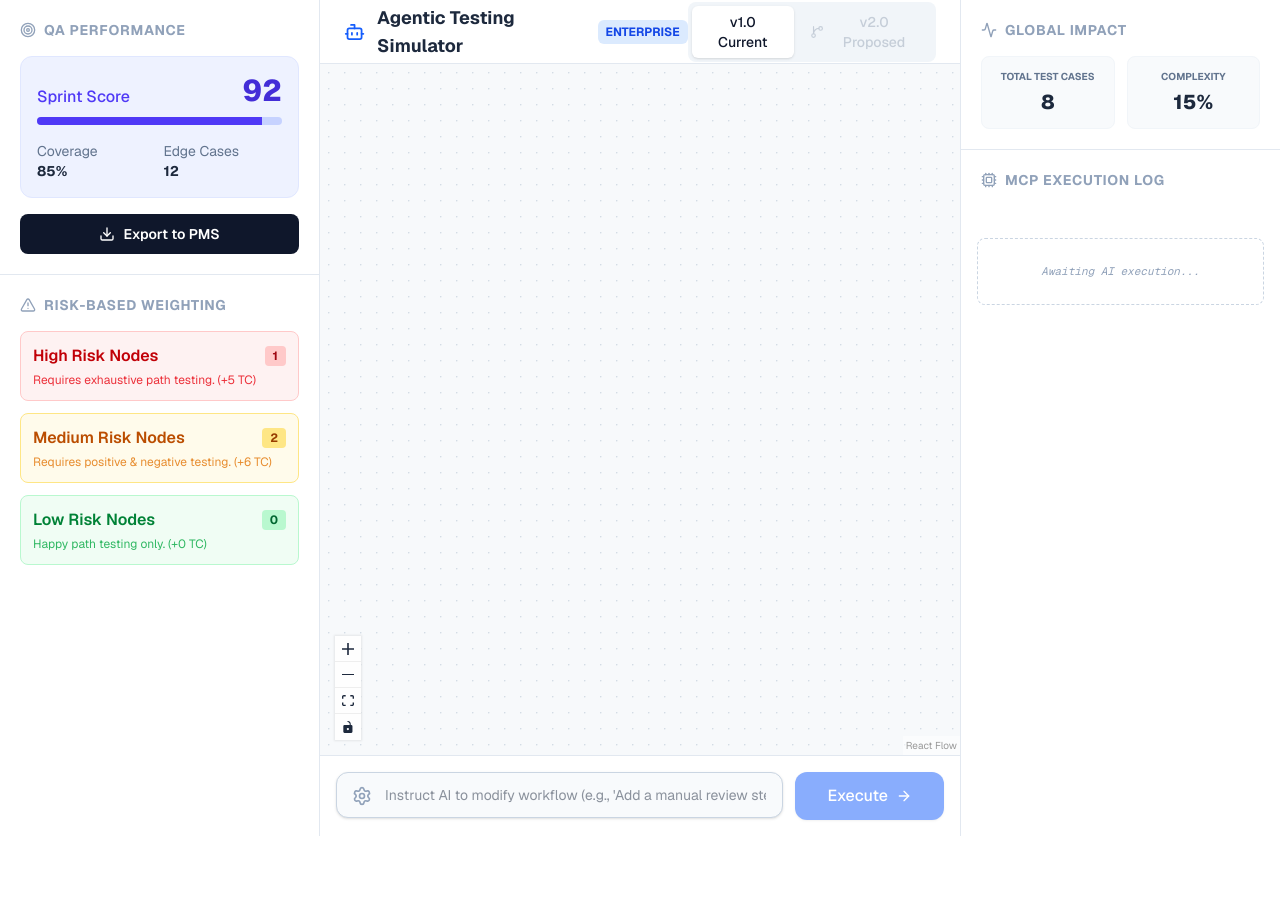
Test: AgenticTestingPage Component › should handle API failure gracefully and log error
This screenshot has width=1280, height=900.
Replace the text in the field with placeholder "Instruct AI to modify workflow" with "Trigger failure": (560, 795) [336,772,784,818]
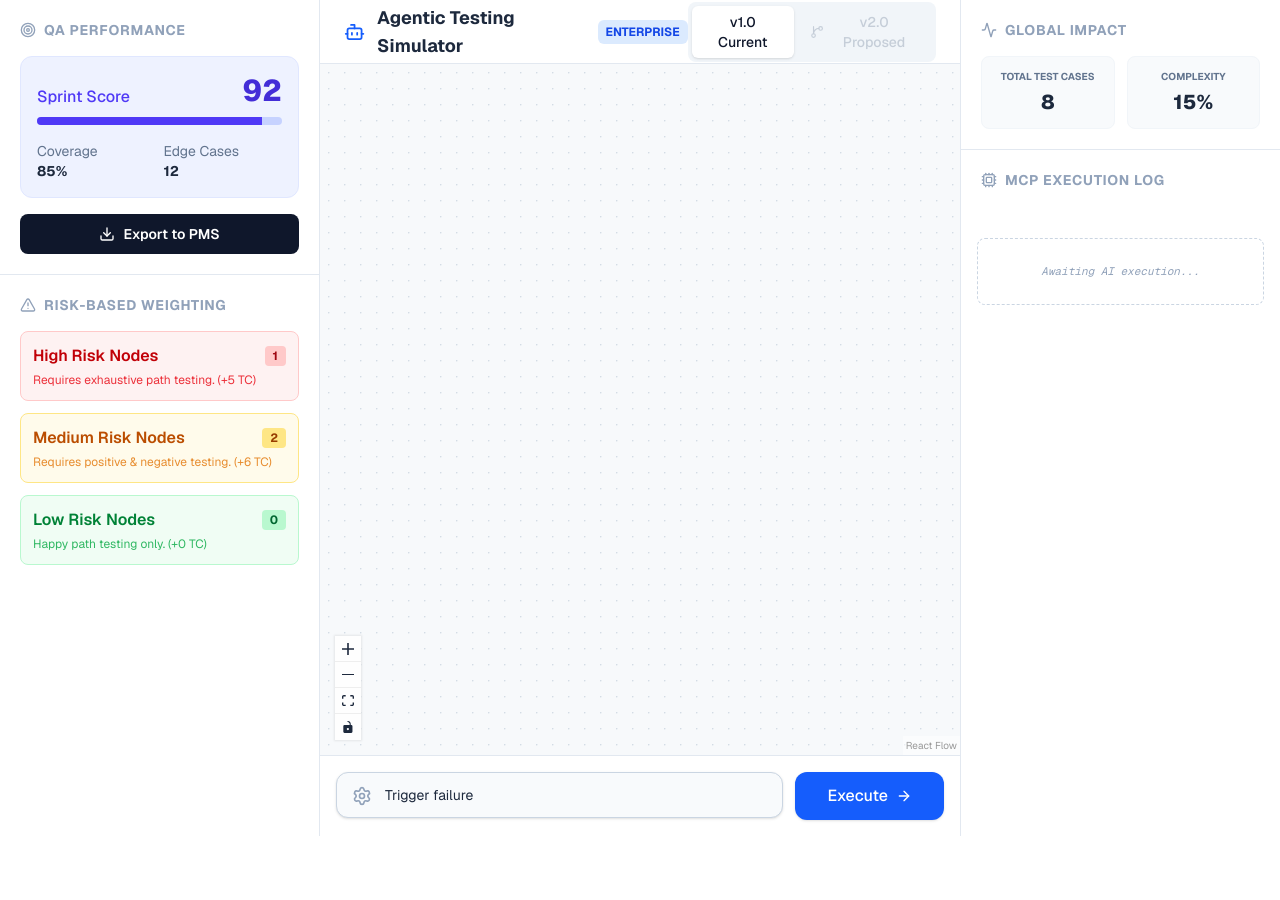
Click the button "Execute": (870, 796) [796,772,944,820]
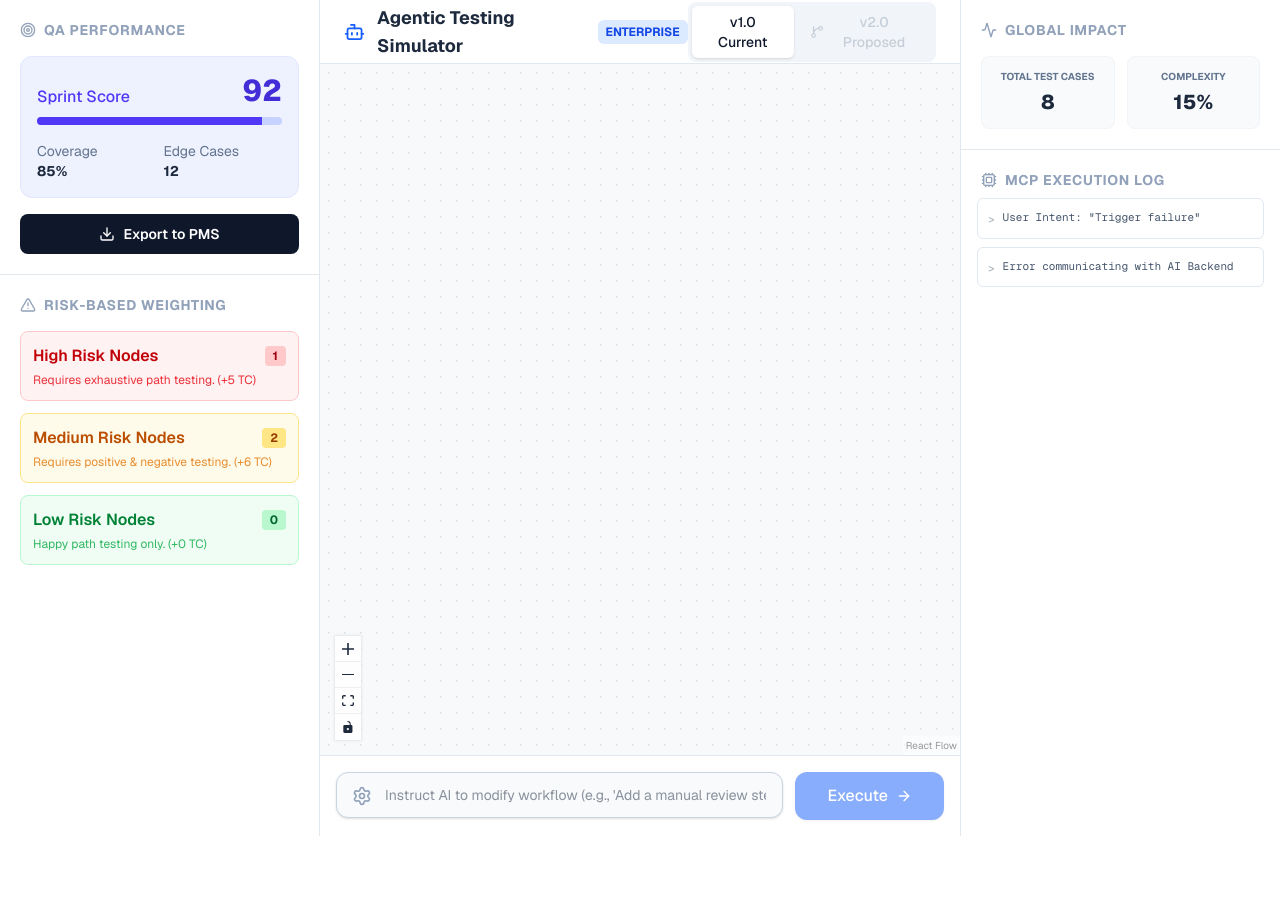
Check: the text "Error communicating with AI Backend" is shown, box [1003,258,1234,274]
